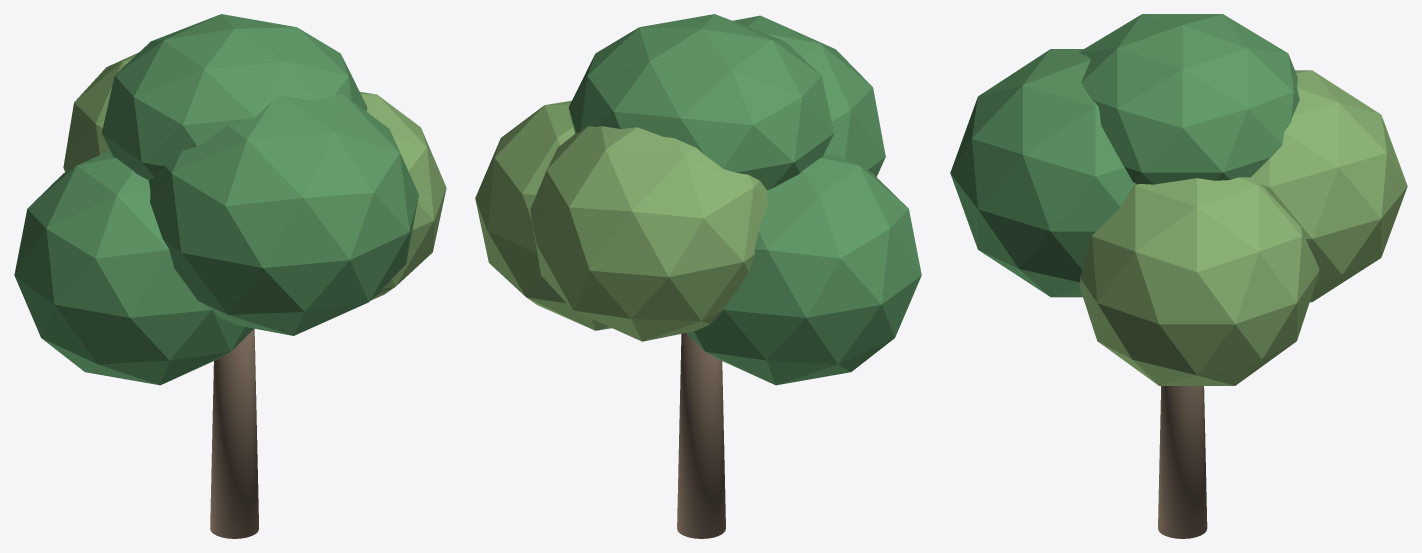
File: oak.glb
The picture shows the model from 3 angles, left to right: view 1: azimuth 30°, elevation 25°; view 2: azimuth 150°, elevation 25°; view 3: azimuth 270°, elevation 25°; orthographic projection.
Parts seen in each view (by area): view 1: oak_leaf, oak_bark, oak_leaflight; view 2: oak_leaf, oak_leaflight, oak_bark; view 3: oak_leaflight, oak_leaf, oak_bark.
Boxes of the visible parts, <box> form: oak_leaf: <box>14,14,418,385</box>; oak_bark: <box>210,329,258,538</box>; oak_leaflight: <box>63,52,446,300</box>; oak_leaf: <box>568,14,921,385</box>; oak_leaflight: <box>475,100,767,341</box>; oak_bark: <box>677,333,725,538</box>; oak_leaflight: <box>1079,70,1407,385</box>; oak_leaf: <box>950,14,1299,297</box>; oak_bark: <box>1158,386,1207,538</box>.
Bounding box in the file's own units: 6.41 × 7.65 × 6.3.
